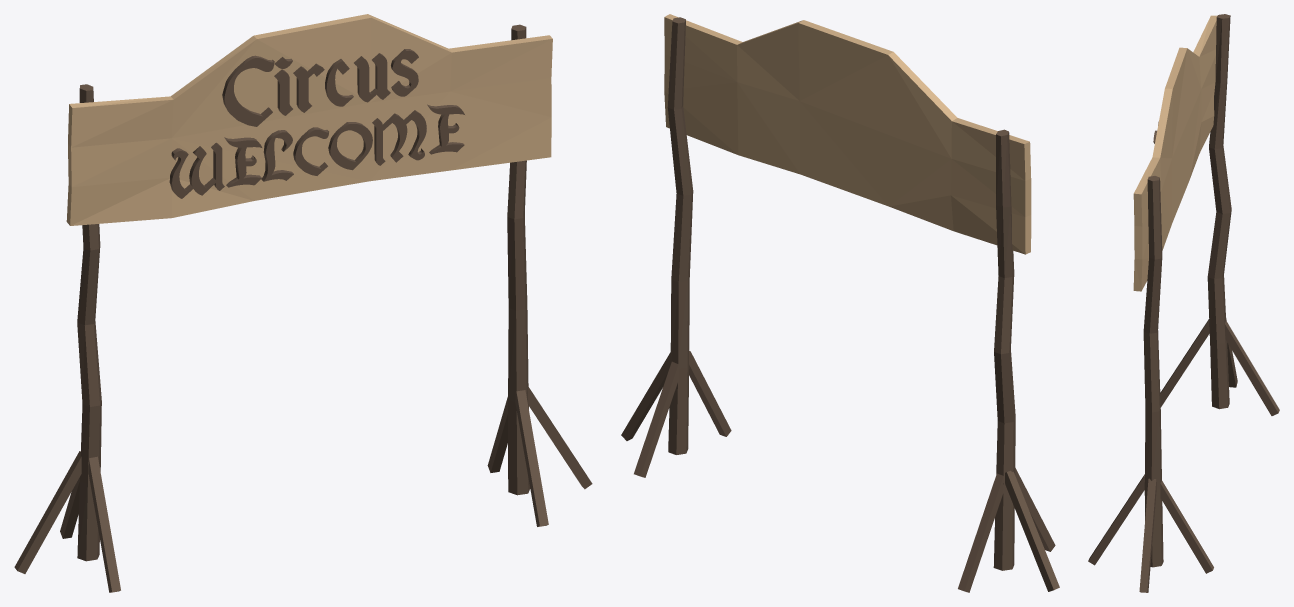
The model's file is bienvenidos al circo.fbx.
The picture shows the model from 3 angles, left to right: view 1: azimuth 30°, elevation 25°; view 2: azimuth 150°, elevation 25°; view 3: azimuth 270°, elevation 25°; orthographic projection. The views are drawn at different scales.
Visible parts, largest first — view 1: gate; view 2: gate; view 3: gate.
Boxes of the visible parts, x1,y1,x2,y2 form: gate: [14, 14, 592, 592]; gate: [621, 14, 1059, 592]; gate: [1088, 14, 1279, 592].
Size of the model in its own units: 532 by 496 by 204.
Materials: 1 (1 with a texture image).
